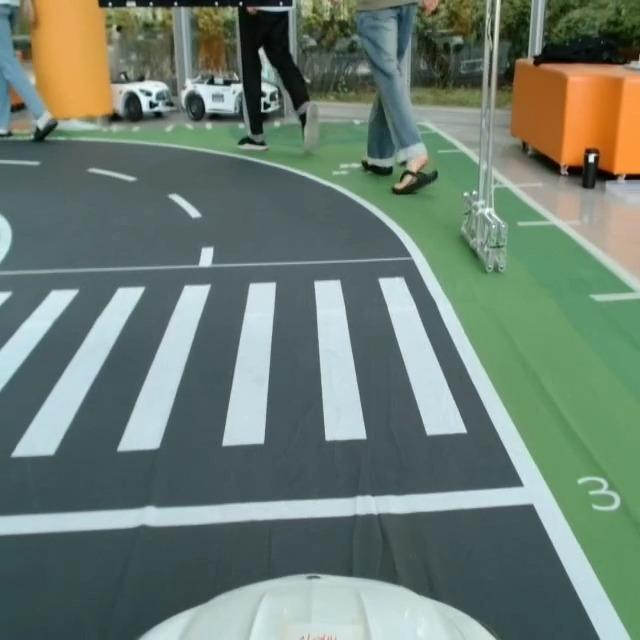traffic-light: (95, 0, 298, 11)
